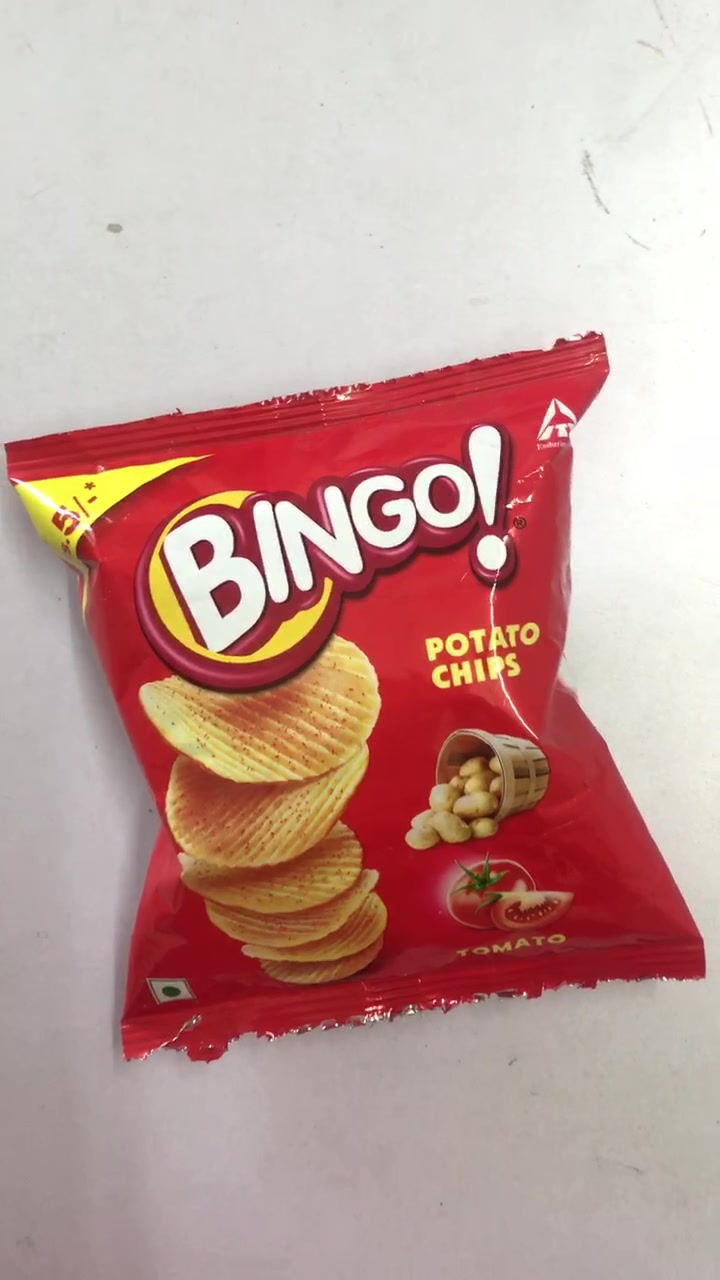Bingo: (14, 360, 712, 1031)
